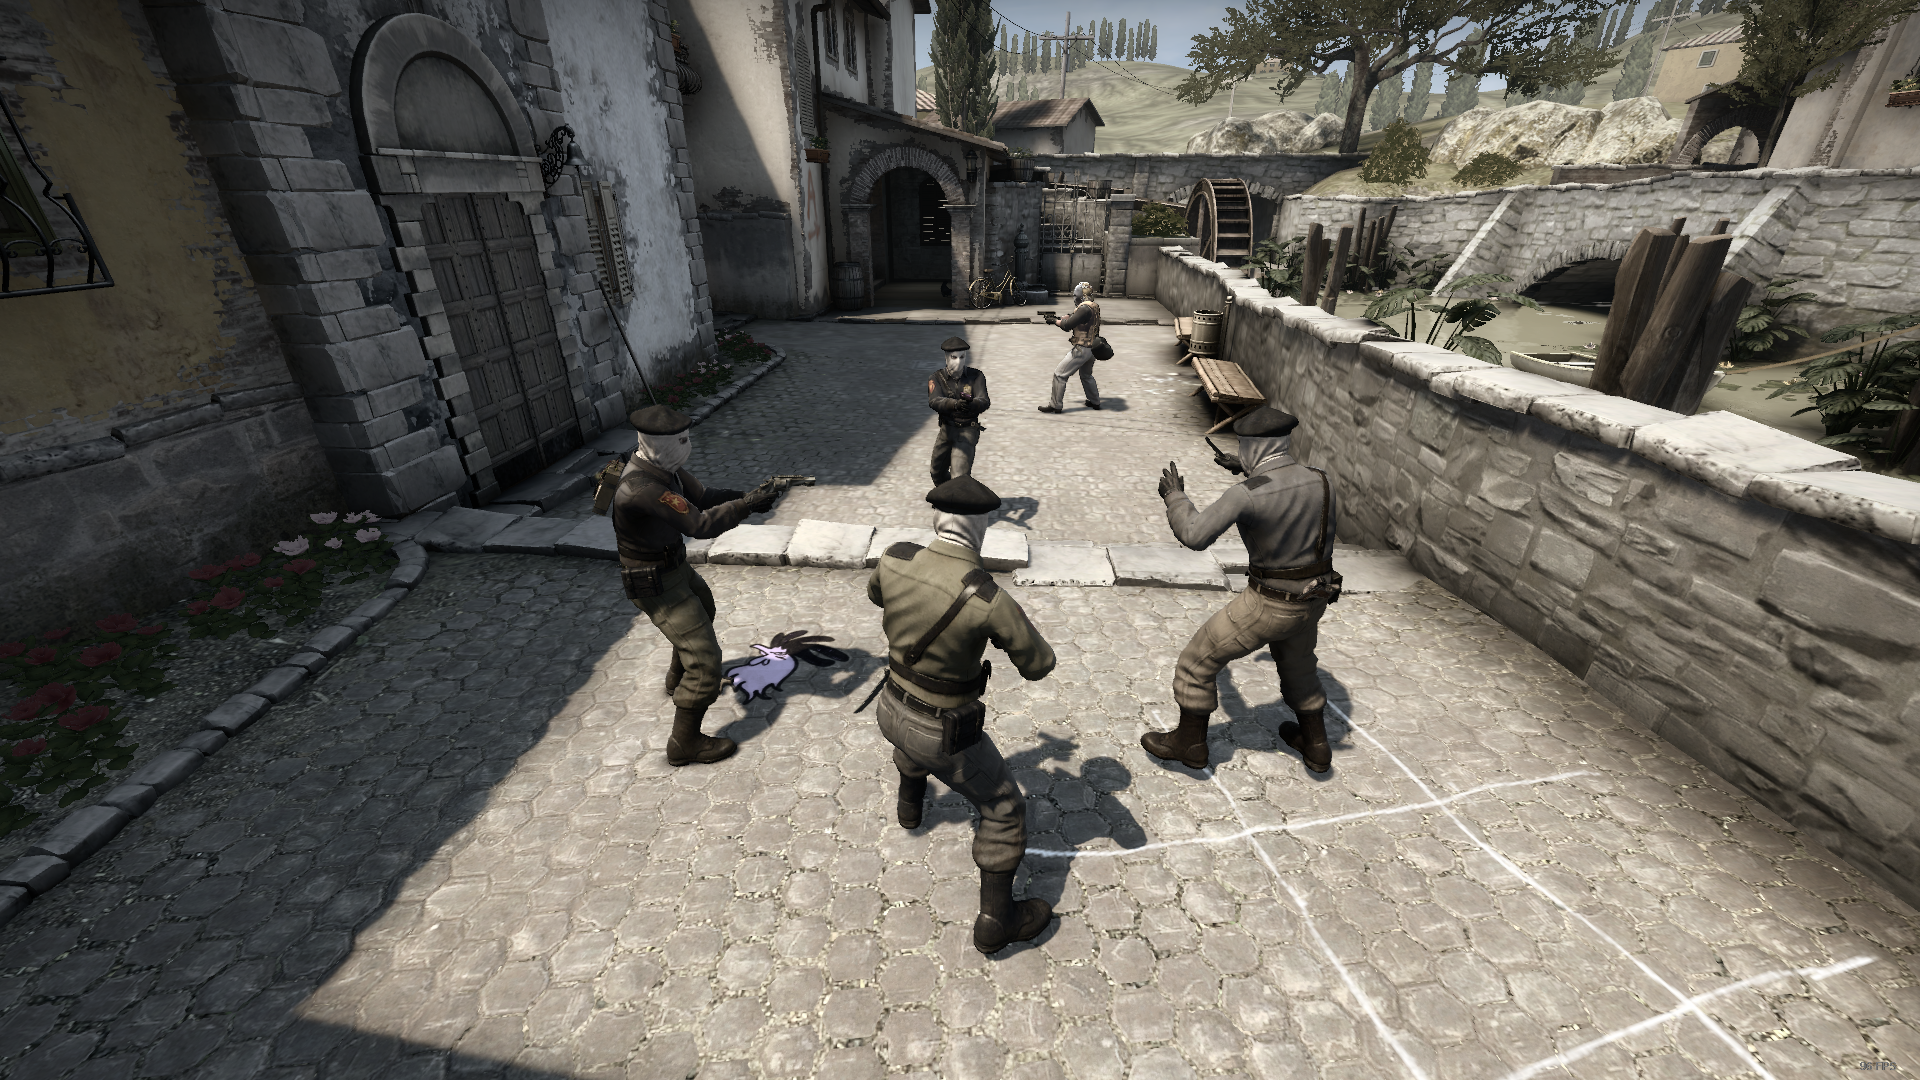t: (868, 476, 1056, 959), (1138, 406, 1342, 774), (611, 405, 778, 769), (928, 338, 992, 472)
